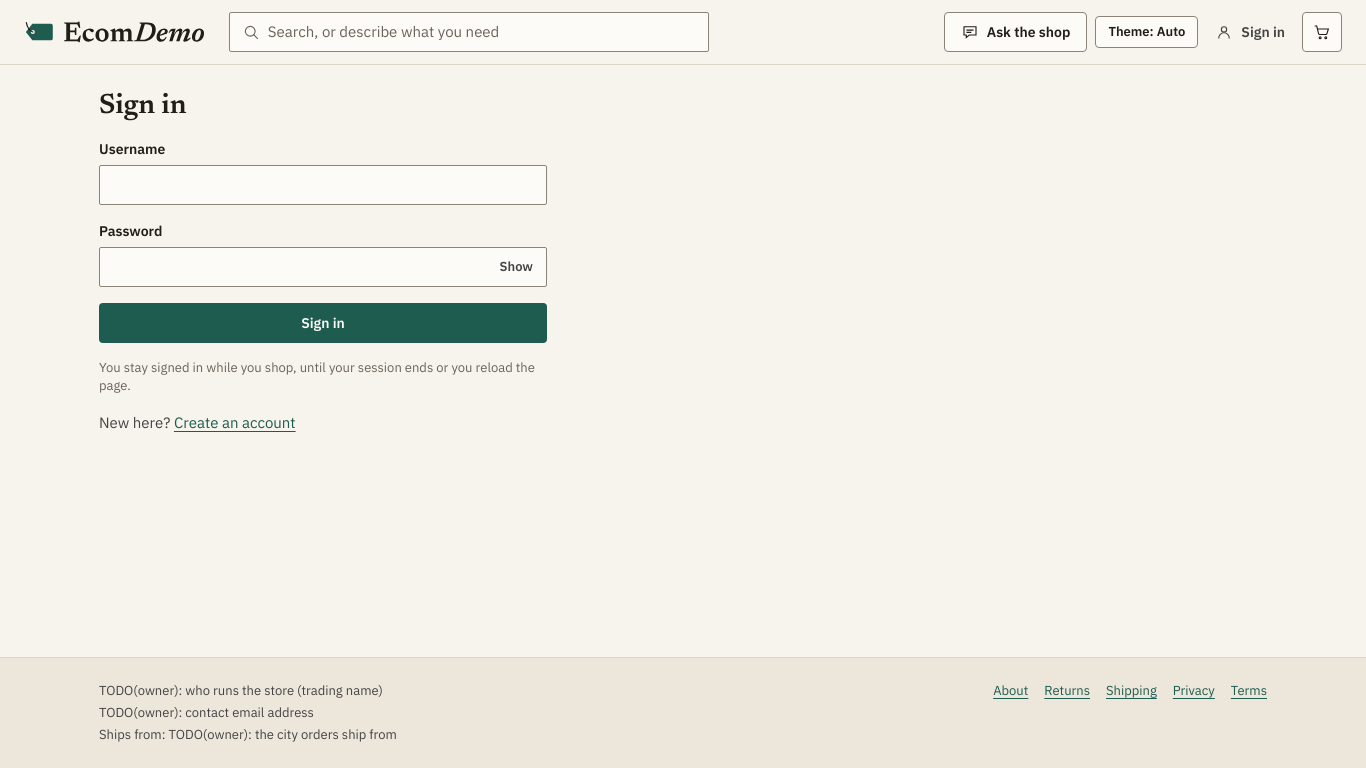
Test case: the sign-in page › asks for both fields, focuses the first, and sends nothing, when they are empty
This screenshot has width=1366, height=768.
What coordinates should you click on to do the following:
click the button "Sign in"
I would click on:
 (323, 323)
Its box is [99,303,547,343].
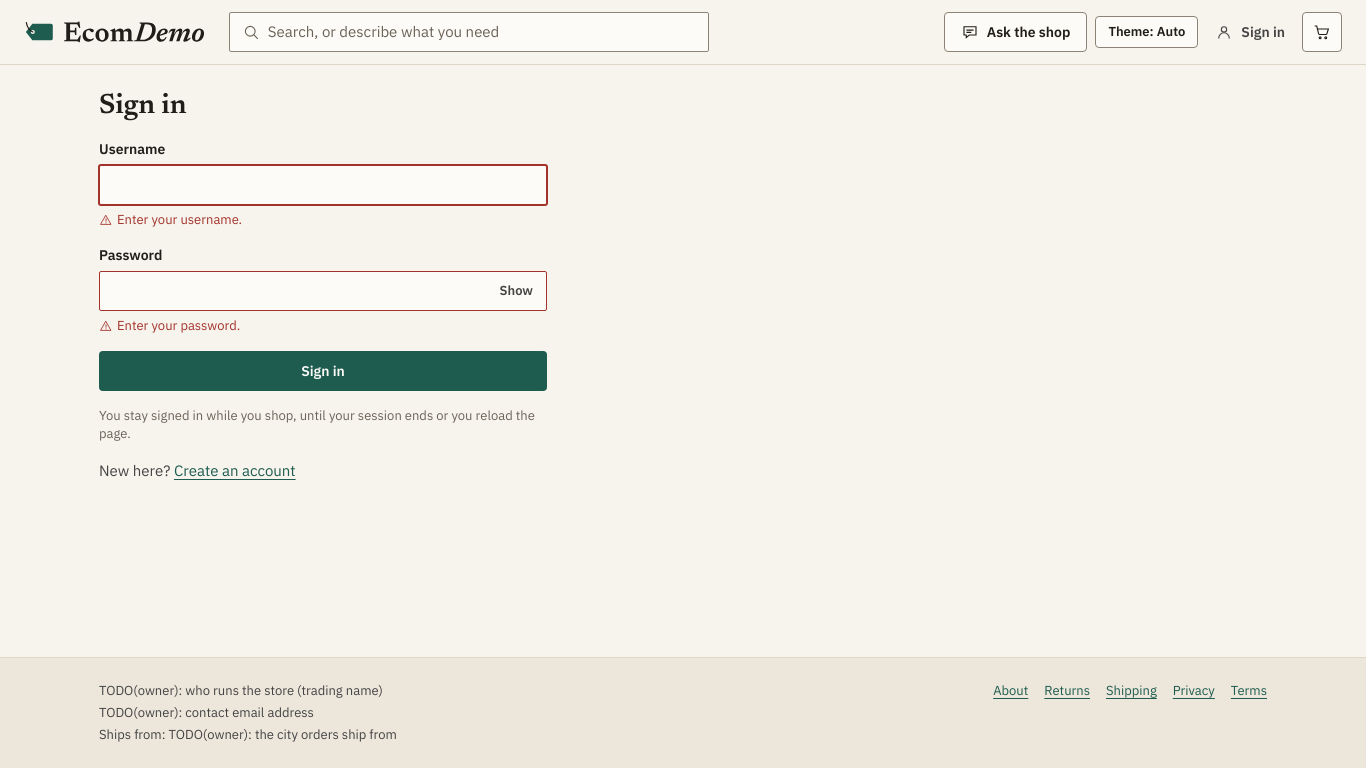
Expected: the text "Enter your username." is shown, [99,211,242,228]
Expected: the text "Enter your password." is shown, [99,317,240,334]
